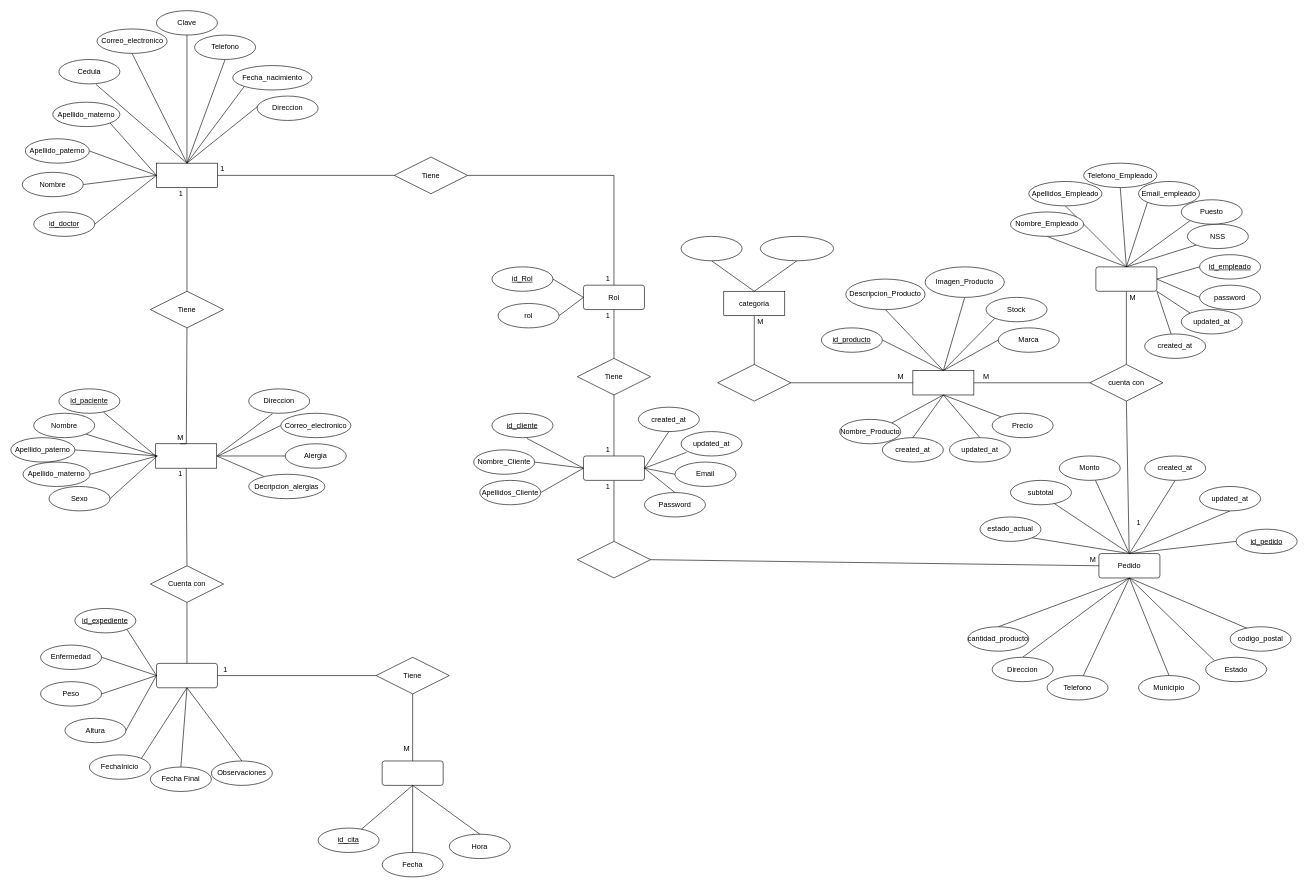
The diagram is 1308 pixels wide and 888 high, and some of its shapes have lost their labels. Here are the shapes that lost their labels. From the top down, the box of each, then its label:
(156, 163, 217, 188): Doctor
(680, 236, 742, 261): id_categoría
(760, 236, 834, 261): Nombre_Categoria
(1095, 266, 1157, 291): Empleado
(717, 364, 791, 401): Se clasifica
(912, 370, 974, 395): Producto
(155, 443, 217, 468): Paciente
(583, 455, 644, 480): Cliente
(577, 541, 651, 578): Hace
(156, 663, 217, 688): Expediente
(382, 760, 443, 785): Citas
